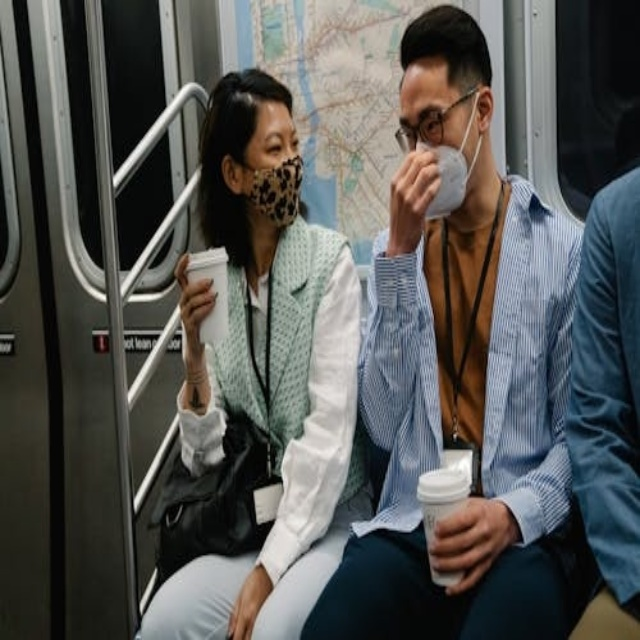Gafas: (396, 86, 480, 154)
Mascara: (404, 92, 481, 218), (239, 155, 303, 225)
Sin_gafas: (251, 123, 306, 156)
Sin_guantes: (426, 495, 499, 595), (379, 146, 439, 252), (166, 244, 221, 356), (219, 559, 276, 636)
